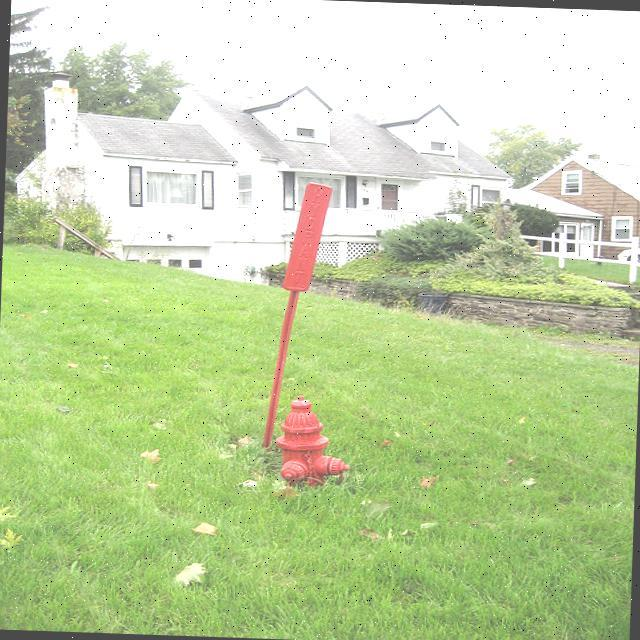fire_hydrant: (272, 393, 351, 492)
